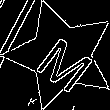M_NE: (26, 21, 96, 89)
